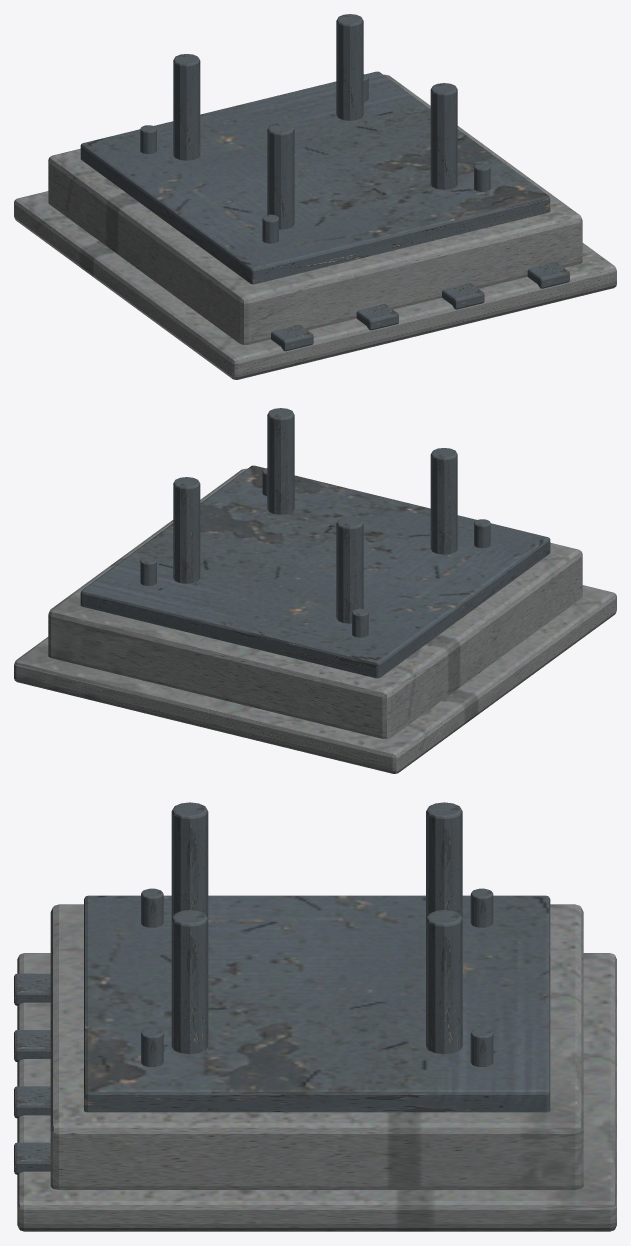
Rendered from tower_foundation.glb.
3 renders of one model, top to bottom at view 1: azimuth 30°, elevation 25°; view 2: azimuth 150°, elevation 25°; view 3: azimuth 270°, elevation 25°, orthographic. The views are drawn at different scales.
Parts seen in each view (by area): view 1: FoundationRing, Footing, FootingStep, ServiceConduit0, ServiceConduit2, ServiceConduit3, ServiceConduit1, AccessStep2, AccessStep3, AccessStep0, AccessStep1; view 2: FoundationRing, Footing, FootingStep, ServiceConduit3, ServiceConduit0, ServiceConduit1, ServiceConduit2; view 3: FoundationRing, Footing, FootingStep, ServiceConduit0, ServiceConduit3, ServiceConduit1, ServiceConduit2, AccessStep0, AccessStep3, AccessStep2, AccessStep1, Anchor2 (+3 smaller).
Boxes of the visible parts, x1,y1,x2,y2 form: FoundationRing: (80,71,550,284); Footing: (48,74,582,344); FootingStep: (14,191,616,379); ServiceConduit0: (430,83,457,189); ServiceConduit2: (173,54,200,160); ServiceConduit3: (336,14,363,120); ServiceConduit1: (267,123,294,229); AccessStep2: (442,283,484,309); AccessStep3: (527,262,569,288); AccessStep0: (271,325,313,351); AccessStep1: (356,304,398,330); FoundationRing: (80,465,550,678); Footing: (48,468,582,738); FootingStep: (14,585,616,773); ServiceConduit3: (173,477,200,583); ServiceConduit0: (267,408,294,514); ServiceConduit1: (430,448,457,554); ServiceConduit2: (336,517,363,623); FoundationRing: (84,895,550,1112); Footing: (50,904,583,1189); FootingStep: (17,953,616,1231); ServiceConduit0: (171,910,208,1054); ServiceConduit3: (426,910,462,1054); ServiceConduit1: (171,802,208,918); ServiceConduit2: (426,802,462,918); AccessStep0: (14,973,50,1005); AccessStep3: (14,1142,50,1174); AccessStep2: (14,1086,50,1118); AccessStep1: (14,1030,50,1062); Anchor2: (470,888,493,927).
Size of the model in its own units: 18 by 8.1 by 18.1.
Materials: 2 (2 with a texture image).
